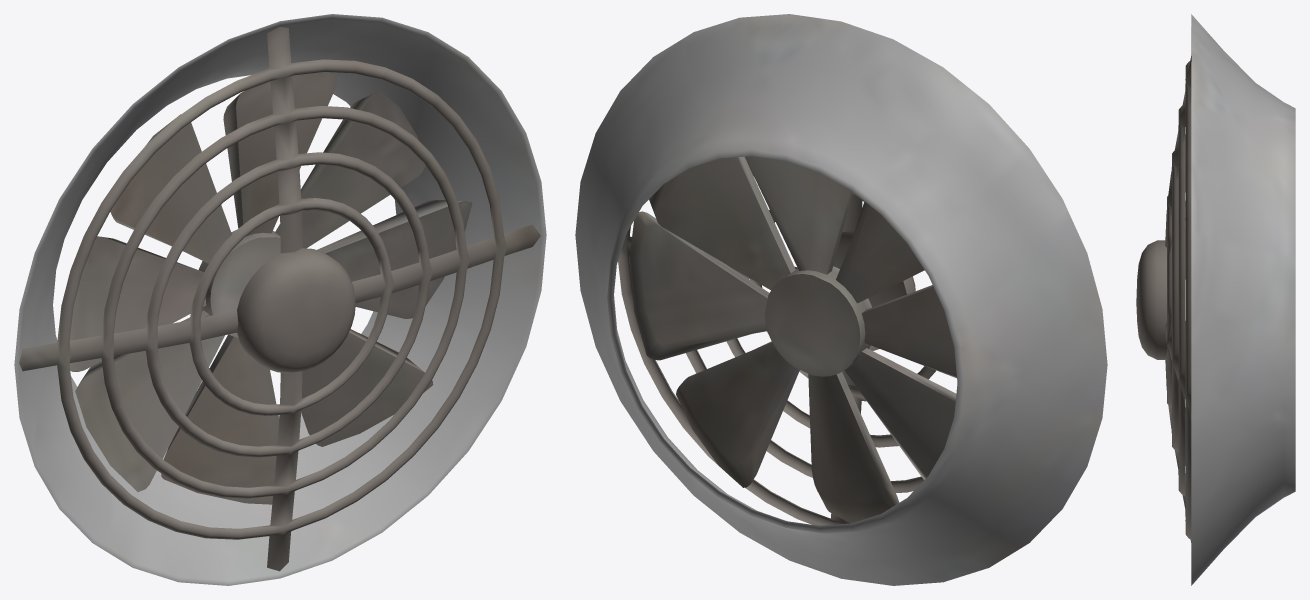
File: modular_airduct_circular_01-fan.glb
3 views of the same model, side by side, from view 1: azimuth 30°, elevation 25°; view 2: azimuth 150°, elevation 25°; view 3: azimuth 270°, elevation 25° (orthographic). The views are drawn at different scales.
Parts seen in each view (by area): view 1: modular_airduct_circular_fan; view 2: modular_airduct_circular_fan; view 3: modular_airduct_circular_fan.
Part boxes in pixels (x1=…): modular_airduct_circular_fan: x1=14, y1=14, x2=546, y2=585; modular_airduct_circular_fan: x1=575, y1=14, x2=1107, y2=585; modular_airduct_circular_fan: x1=1136, y1=14, x2=1295, y2=585.
Bounding box in the file's own units: 0.5428 × 0.5432 × 0.1511.
1 material, 1 textured.
